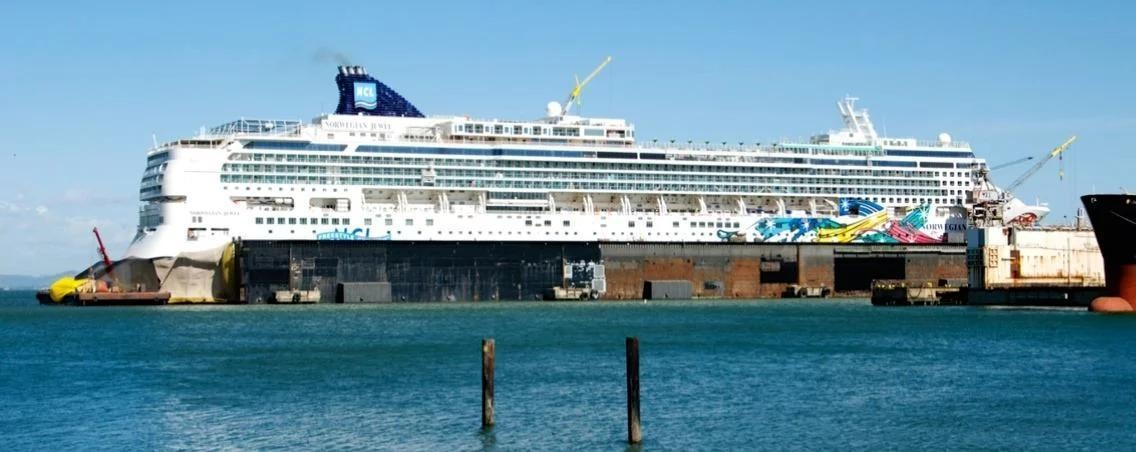youlun: (110, 58, 1018, 305)
